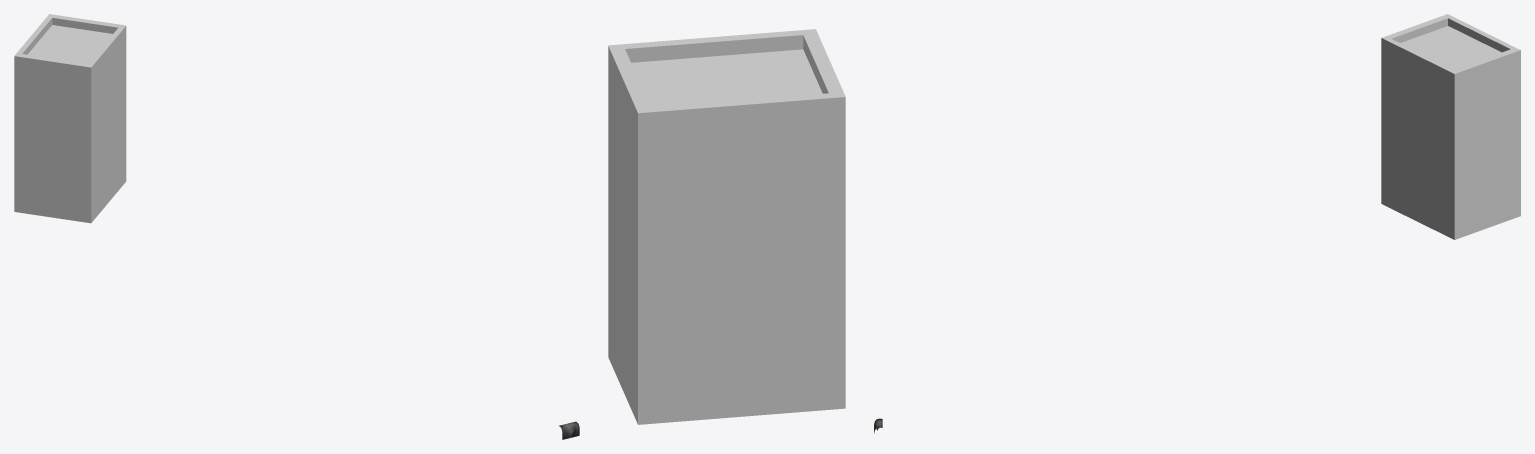
File: BATTLE.fbx
3 renders of one model, left to right at view 1: azimuth 30°, elevation 25°; view 2: azimuth 150°, elevation 25°; view 3: azimuth 270°, elevation 25°, orthographic. The views are drawn at different scales.
Visible parts, largest first — view 1: Shadow (1); view 2: Shadow (1); view 3: Shadow (1).
Part boxes in pixels (x1,y1,x2,y2): Shadow (1): (14,14,126,223); Shadow (1): (608,29,845,424); Shadow (1): (1381,14,1520,239).
Size of the model in its own units: 9.59 by 7.88 by 16.99.
